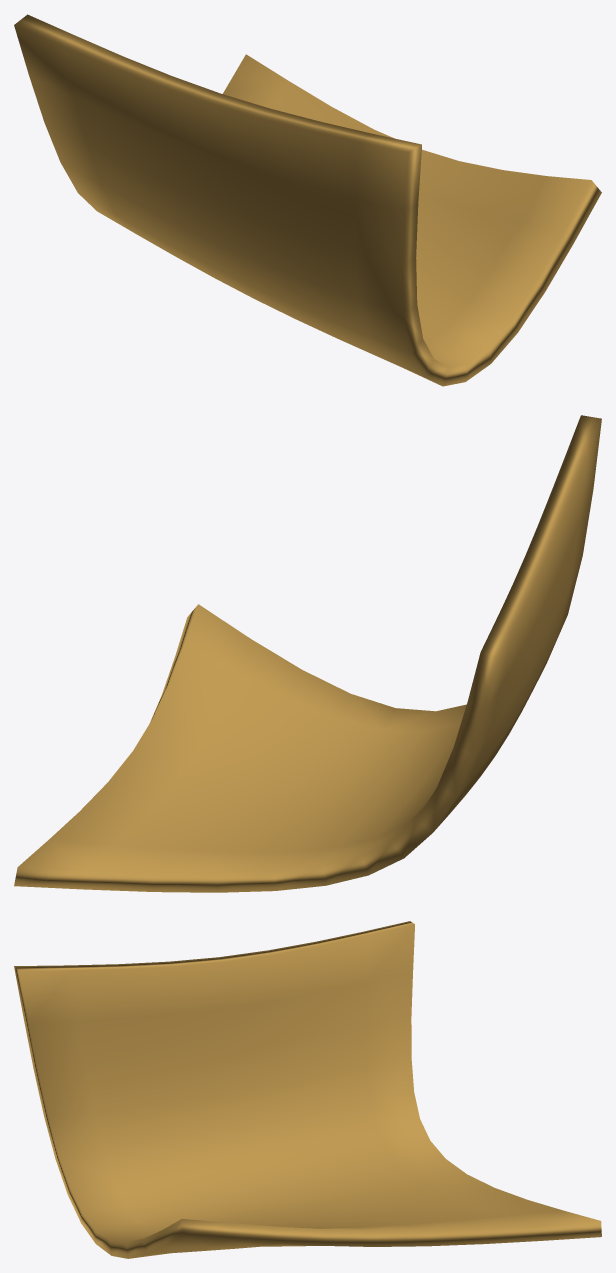
3 renders of one model, top to bottom at view 1: azimuth 30°, elevation 25°; view 2: azimuth 150°, elevation 25°; view 3: azimuth 270°, elevation 25°, orthographic. The views are drawn at different scales.
Parts seen in each view (by area): view 1: 右侧肱骨横韧带; view 2: 右侧肱骨横韧带; view 3: 右侧肱骨横韧带.
Part boxes in pixels (x1,y1,x2,y2): 右侧肱骨横韧带: [14, 14, 601, 386]; 右侧肱骨横韧带: [14, 415, 601, 892]; 右侧肱骨横韧带: [14, 921, 601, 1258].
Bounding box in the file's own units: 0.0182 × 0.0115 × 0.0258.
